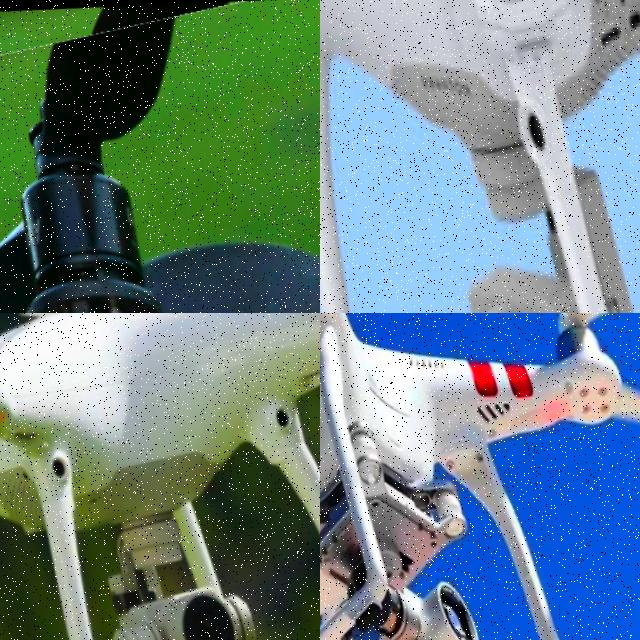drone: (0, 313, 320, 640), (320, 313, 640, 640), (0, 0, 320, 313), (320, 0, 640, 313)
